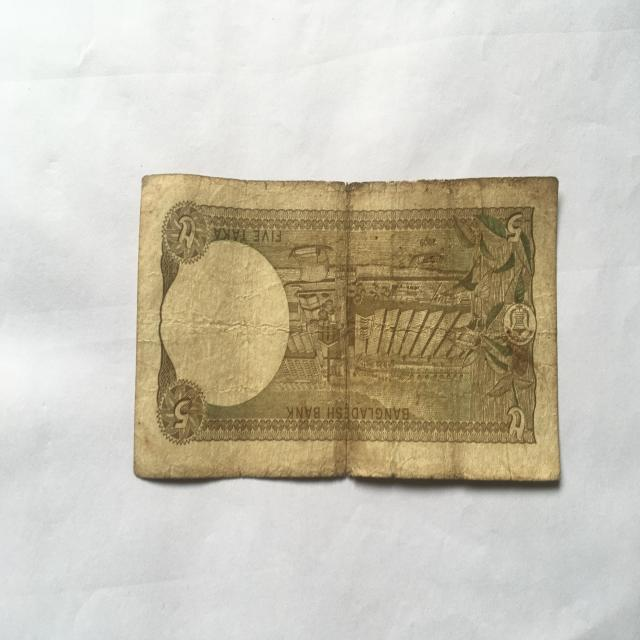Taka: (134, 168, 564, 483)
